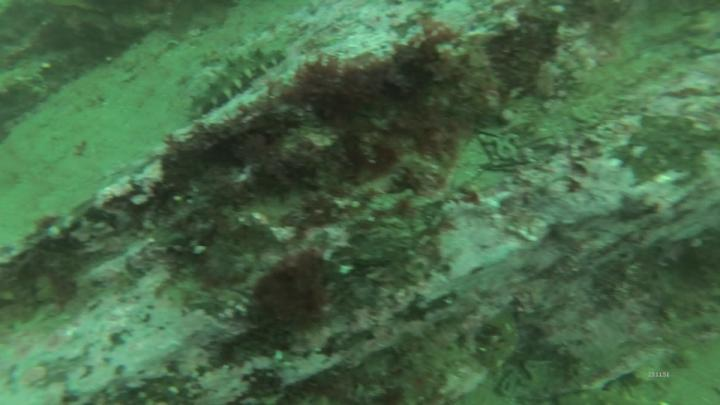holothurian: (171, 47, 291, 119), (482, 310, 526, 374)
